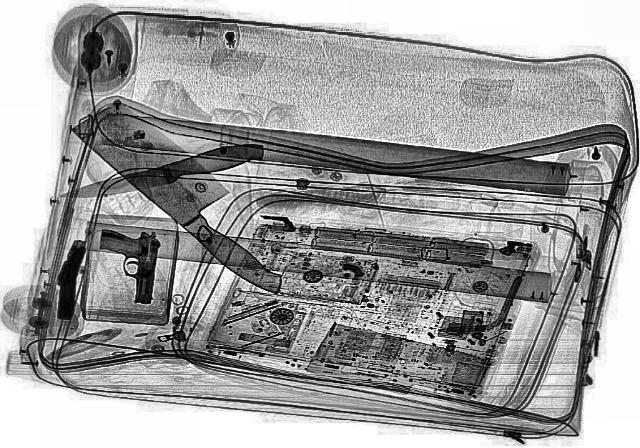Gun: (90, 226, 162, 304), (46, 238, 90, 320)
Knife: (55, 99, 329, 299), (53, 139, 270, 206)
